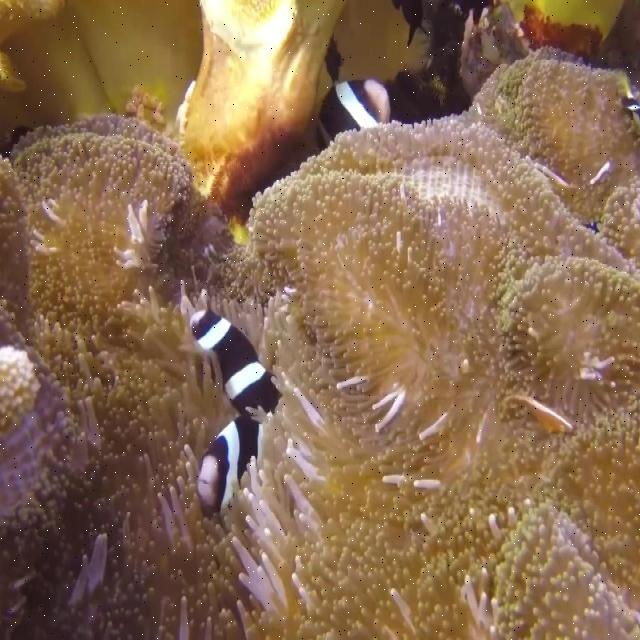fish: (190, 308, 282, 413), (197, 417, 263, 511), (316, 79, 391, 149)
reefs: (223, 47, 639, 638), (1, 116, 245, 639), (0, 1, 347, 212)
